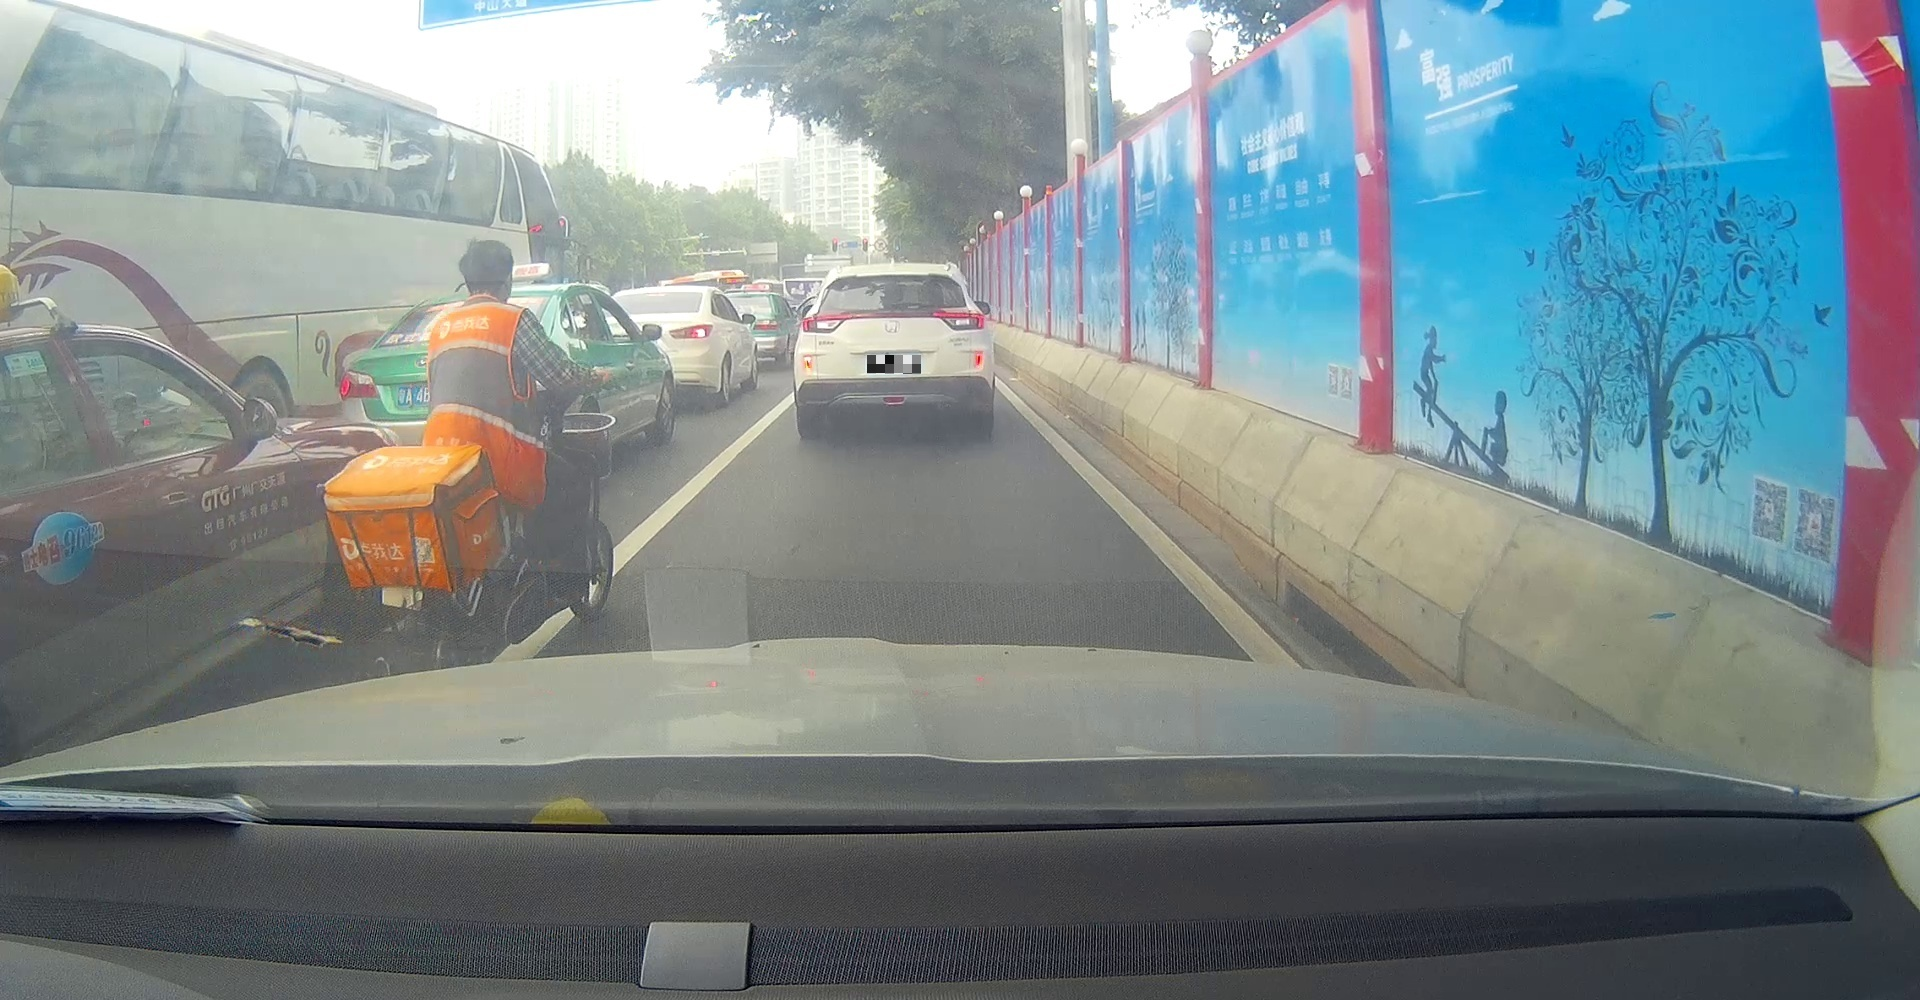L_light: (803, 313, 851, 334)
R_light: (933, 312, 985, 331)
T_light: (879, 274, 905, 280)
day-no: (792, 263, 996, 439)
plate_1: (867, 355, 921, 374)
